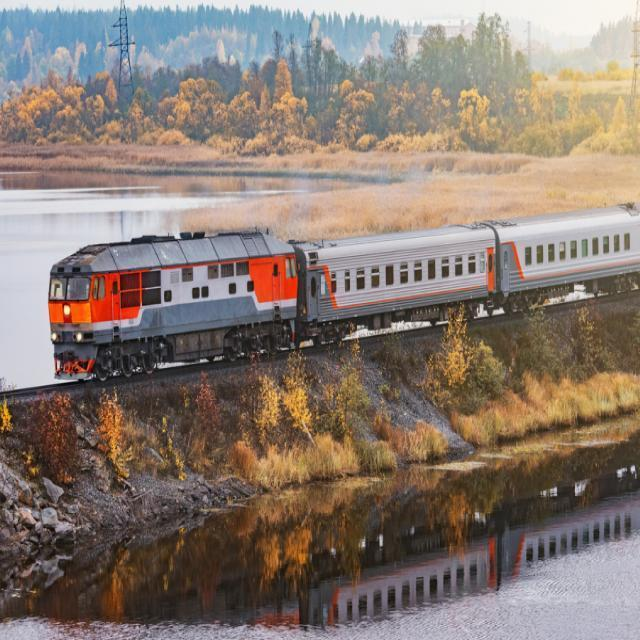trains: (47, 203, 640, 383)
